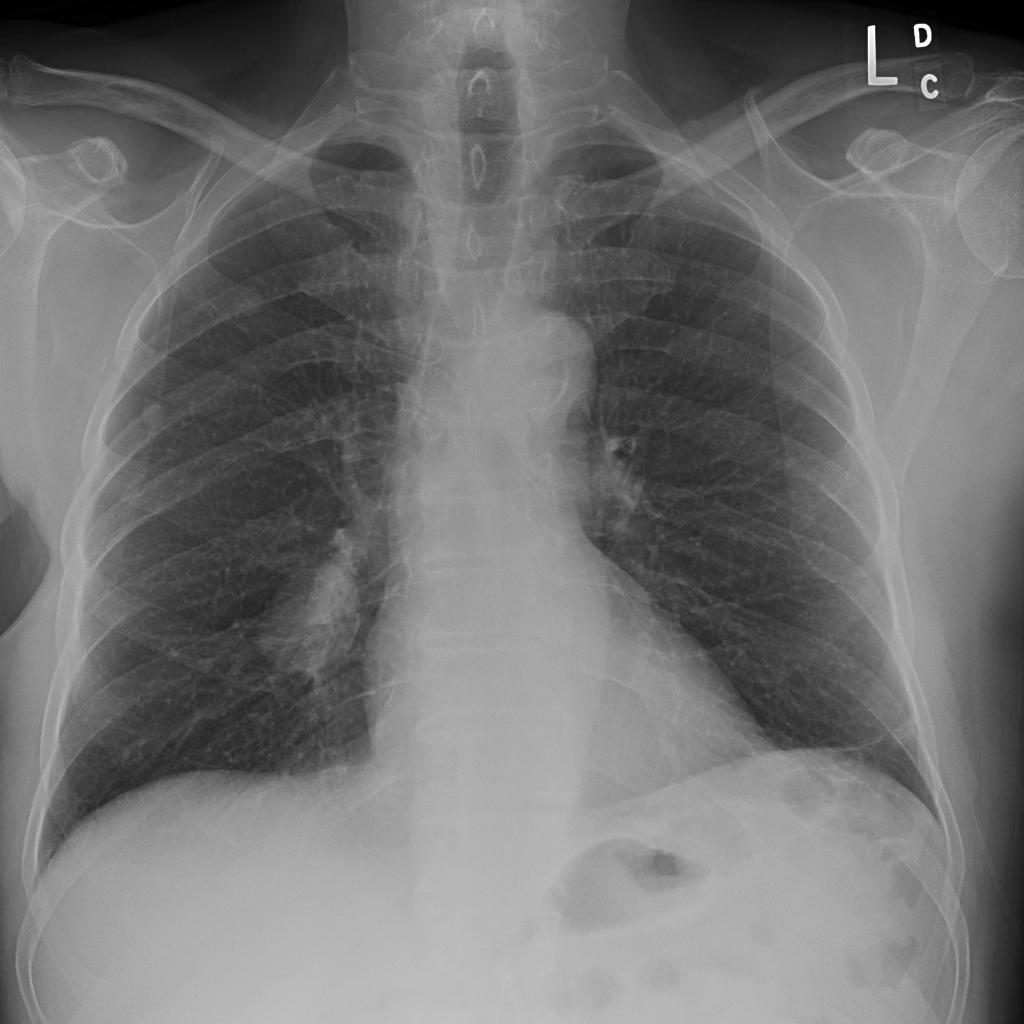Nodule: (172, 378, 208, 410), (113, 143, 141, 167)
